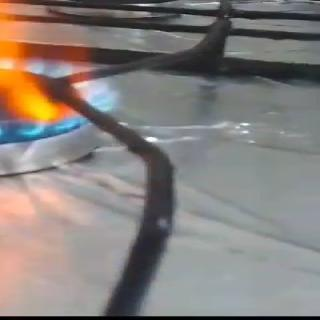fire: (0, 0, 123, 147)
